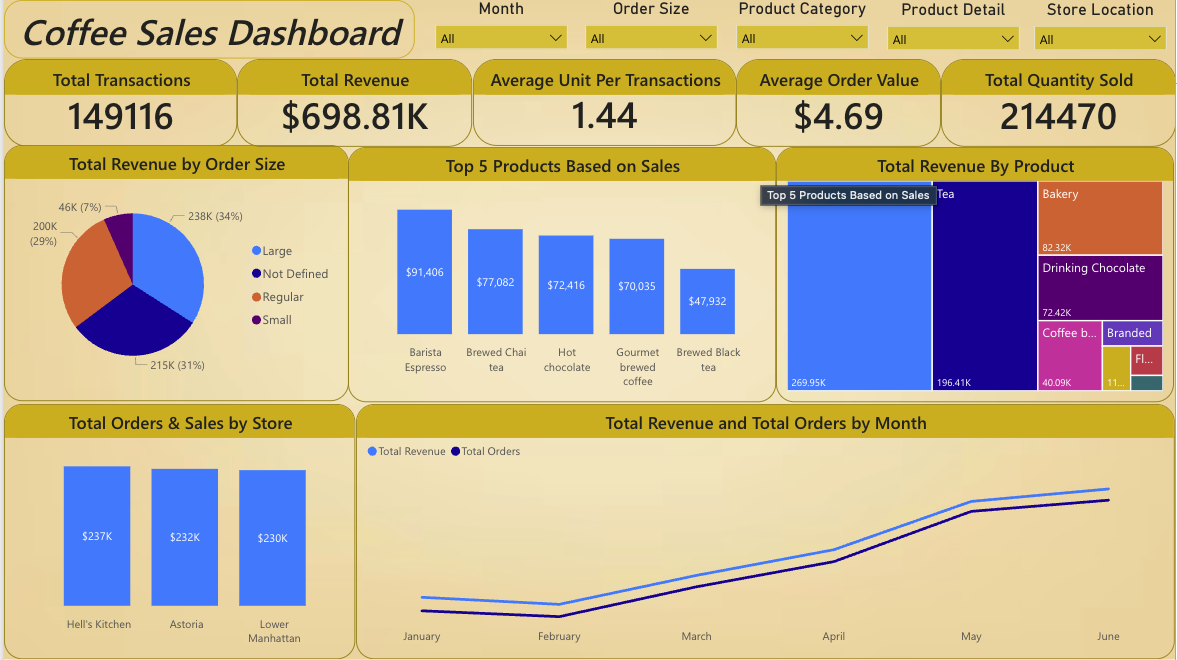

What the dashboard file says about the page in this screenshot:
{"tool":"powerbi","page":{"name":"Page 1","canvas":[1280,720],"ordinal":0},"visuals":[{"type":"card","title":"Total Transactions","fields":{"Values":["Transactions.Total Orders"]},"box":[0,64.5,255.2,96.1],"z":0},{"type":"pieChart","fields":{"Category":["Transactions.Order Size"],"Y":["Transactions.Total Revenue"]},"box":[0,160.6,376,278.6],"z":1000},{"type":"lineChart","fields":{"Y":["Transactions.Total Revenue"],"Category":["Transactions.transaction_date.Variation.Date Hierarchy.Month"],"Y2":["Transactions.Total Orders"]},"box":[384.2,441.9,894.7,278.6],"z":2000},{"type":"treemap","title":"Total Revenue By Product","fields":{"Group":["Transactions.product_category"],"Values":["Sum(Transactions.Bill Amount)"]},"box":[843.9,160.6,435,278.6],"z":3000},{"type":"clusteredColumnChart","title":"Total Orders & Sales by Store","fields":{"Category":["Transactions.store_location"],"Y":["Transactions.Total Revenue"]},"box":[0,441.9,384.2,278.6],"z":4000},{"type":"clusteredColumnChart","title":"Top 5 Products Based on Sales","fields":{"Category":["Transactions.product_type"],"Y":["Sum(Transactions.Bill Amount)"]},"box":[376,160.6,467.9,278.6],"z":5000},{"type":"card","title":"Total Revenue","fields":{"Values":["Transactions.Total Revenue"]},"box":[255.2,64.5,256.6,96.1],"z":6000},{"type":"card","title":"Average Unit Per Transactions","fields":{"Values":["Transactions.M_avg_O_P_per"]},"box":[511.8,64.5,286.8,96.1],"z":7000},{"type":"card","title":"Average Order Value","fields":{"Values":["Transactions.M_Avg_bill_per_person"]},"box":[800,64.5,223.7,96.1],"z":8000},{"type":"card","title":"Total Quantity Sold","fields":{"Values":["Transactions.Total Qty"]},"box":[1023.7,64.5,256.6,96.1],"z":9000},{"type":"textbox","title":"Coffee Sales Dashboard","box":[0,0,448.7,64.5],"z":10000},{"type":"slicer","title":"Month","fields":{"Values":["Transactions.Month Name","Transactions.Month Name"]},"box":[461.1,0,164.7,64.5],"z":11000},{"type":"slicer","title":"Order Size","fields":{"Values":["Transactions.Order Size"]},"box":[625.7,0,164.7,64.5],"z":12000},{"type":"slicer","title":"Product Category","fields":{"Values":["Transactions.product_category"]},"box":[790.4,0,164.7,64.5],"z":13000},{"type":"slicer","title":"Product Detail","fields":{"Values":["Transactions.product_type"]},"box":[955.1,1.4,164.7,64.5],"z":14000},{"type":"slicer","title":"Store Location","fields":{"Values":["Transactions.store_location"]},"box":[1115.6,1.4,164.7,64.5],"z":15000}]}

Visuals, with their boxes in screenshot pixels (x1, y1, x2, y2), scaled from the page's 1280x720 canvas onto the 1177x660 screenshot:
"Total Transactions" card: 0:59:235:147
pieChart - Transactions.Order Size x Transactions.Total Revenue: 0:147:346:403
lineChart - Transactions.Total Revenue x Transactions.transaction_date.Variation.Date Hierarchy.Month: 353:405:1176:659
"Total Revenue By Product" treemap: 776:147:1176:403
"Total Orders & Sales by Store" clusteredColumnChart: 0:405:353:659
"Top 5 Products Based on Sales" clusteredColumnChart: 346:147:776:403
"Total Revenue" card: 235:59:471:147
"Average Unit Per Transactions" card: 471:59:734:147
"Average Order Value" card: 736:59:941:147
"Total Quantity Sold" card: 941:59:1176:147
"Coffee Sales Dashboard" textbox: 0:0:413:59
"Month" slicer: 424:0:575:59
"Order Size" slicer: 575:0:727:59
"Product Category" slicer: 727:0:878:59
"Product Detail" slicer: 878:1:1030:60
"Store Location" slicer: 1026:1:1176:60
